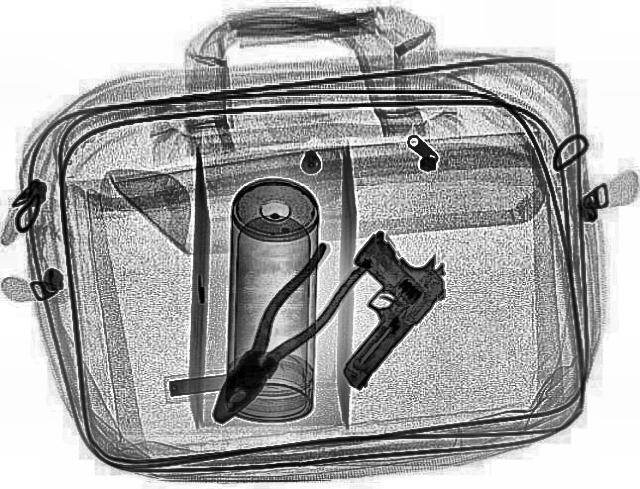Gun: (269, 227, 469, 389)
Pliers: (186, 239, 374, 431)
